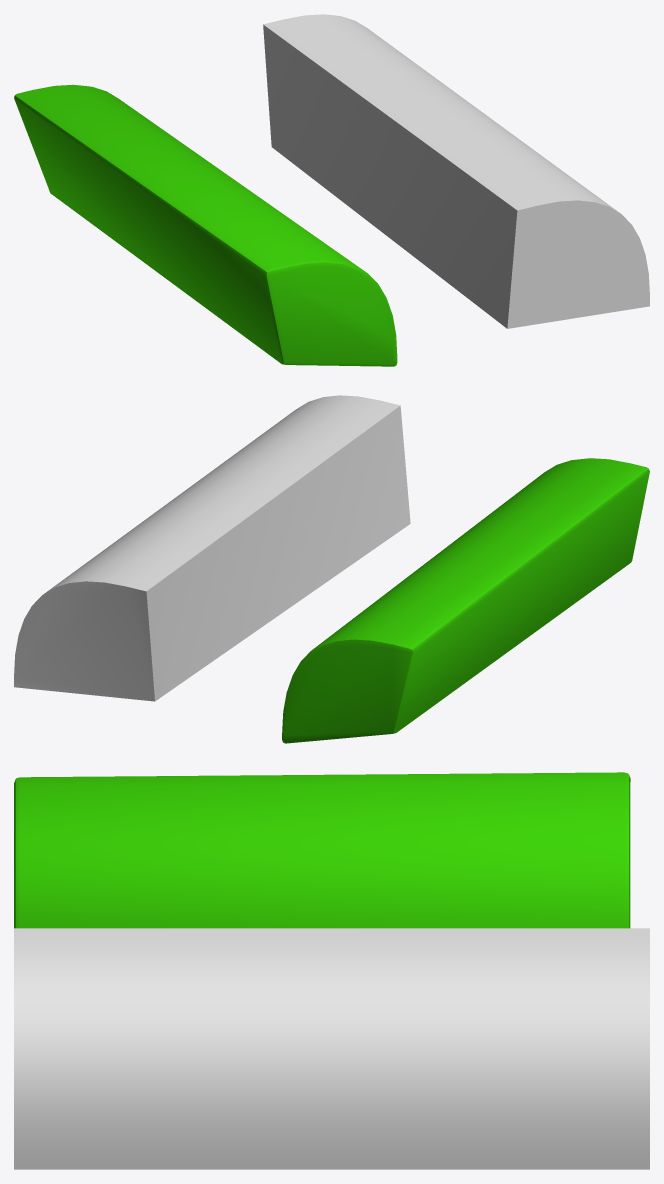
Rendered from Logs_LP.fbx.
3 renders of one model, top to bottom at view 1: azimuth 30°, elevation 25°; view 2: azimuth 150°, elevation 25°; view 3: azimuth 270°, elevation 25°, orthographic. The views are drawn at different scales.
Visible parts, largest first — view 1: Log1, Log2; view 2: Log1, Log2; view 3: Log1, Log2.
Boxes of the visible parts, box(x1,y1,x2,y2) form: Log1: box(263, 14, 649, 328); Log2: box(14, 84, 397, 366); Log1: box(14, 395, 410, 701); Log2: box(282, 458, 649, 743); Log1: box(14, 928, 649, 1169); Log2: box(14, 772, 630, 928).
Bounding box in the file's own units: 88.92 × 27.81 × 100.
